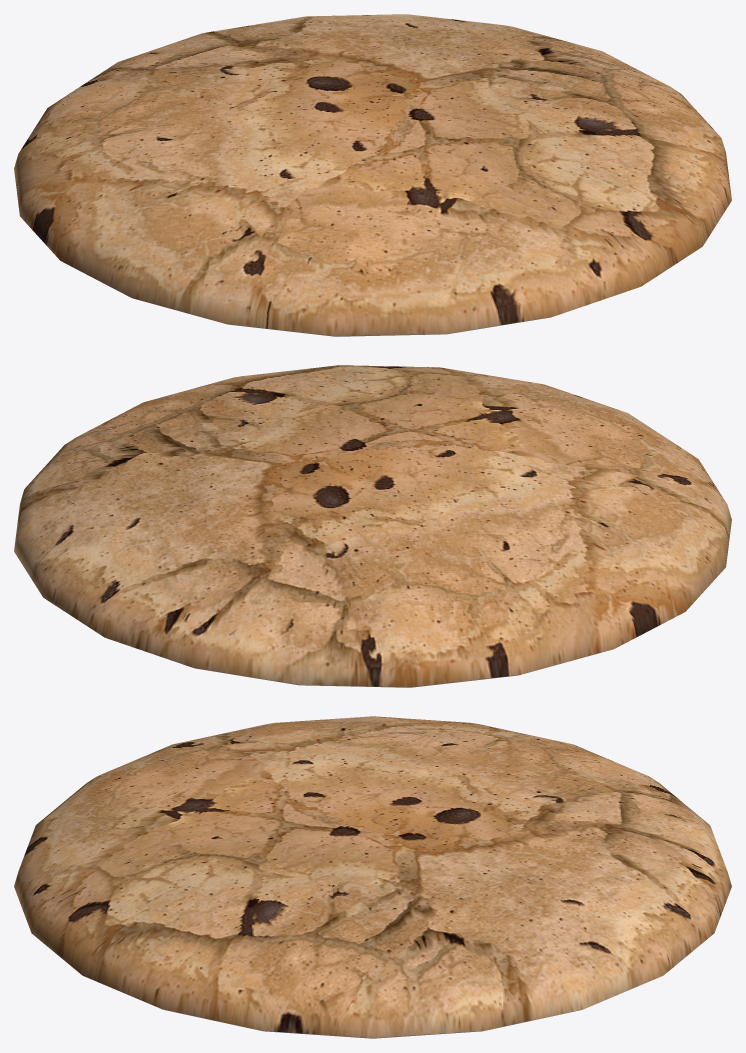
Rendered from Cookies.fbx.
3 renders of one model, top to bottom at view 1: azimuth 30°, elevation 25°; view 2: azimuth 150°, elevation 25°; view 3: azimuth 270°, elevation 25°, orthographic.
Parts seen in each view (by area): view 1: pSphere1; view 2: pSphere1; view 3: pSphere1.
Part boxes in pixels (<box>): pSphere1: <box>14,14,731,336</box>; pSphere1: <box>14,365,731,687</box>; pSphere1: <box>14,716,731,1038</box>.
Size of the model in its own units: 0.4679 by 0.0626 by 0.4679.
